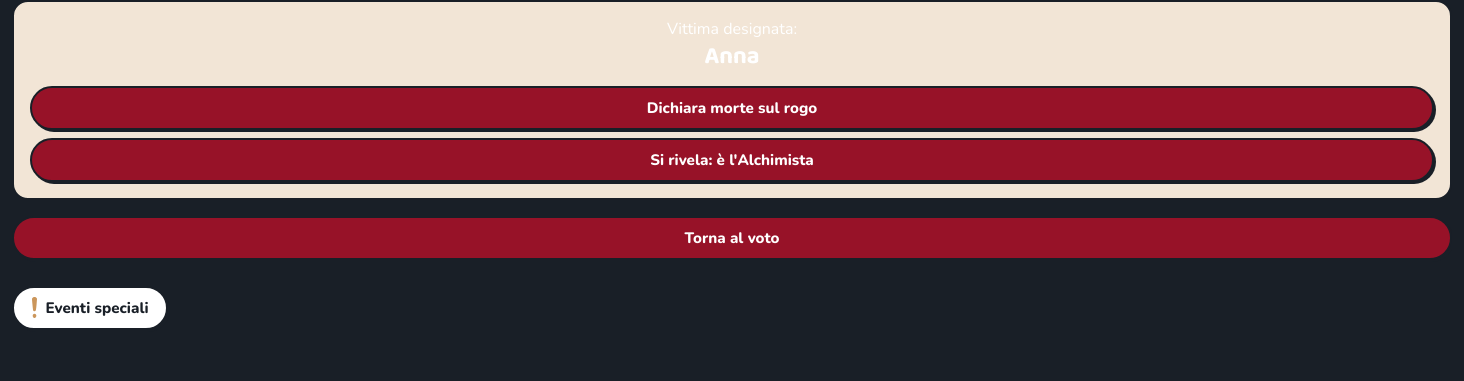
un designato di ruolo ignoto può rivelarsi l'Alchimista al rogo: chiede poi chi trascina con sé nell'esplosione
Step 1. Click the button "Si rivela: è l'Alchimista" → x=732, y=160, box left=30, top=138, right=1434, bottom=182
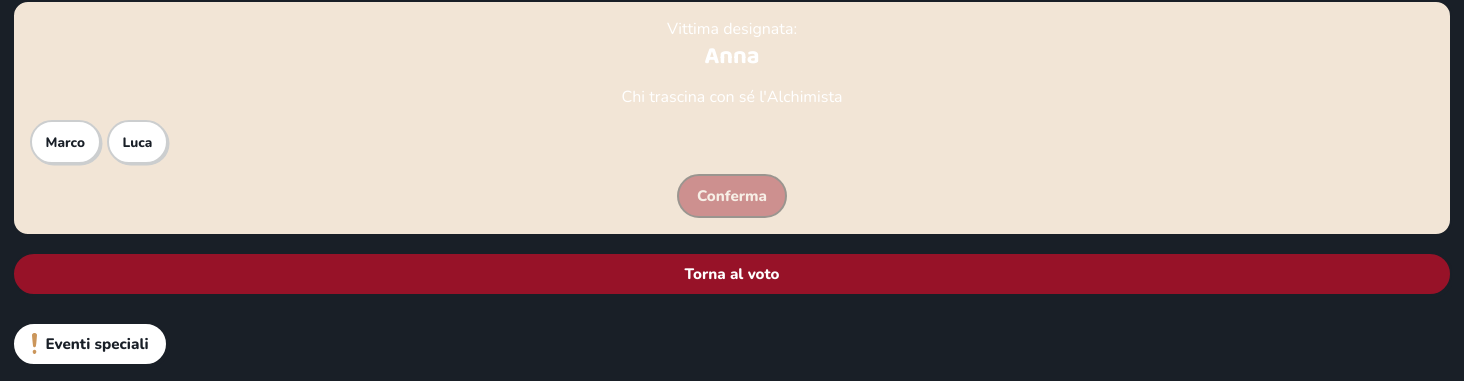
Step 2. Click the button "Marco" → x=65, y=142, box left=30, top=120, right=100, bottom=164
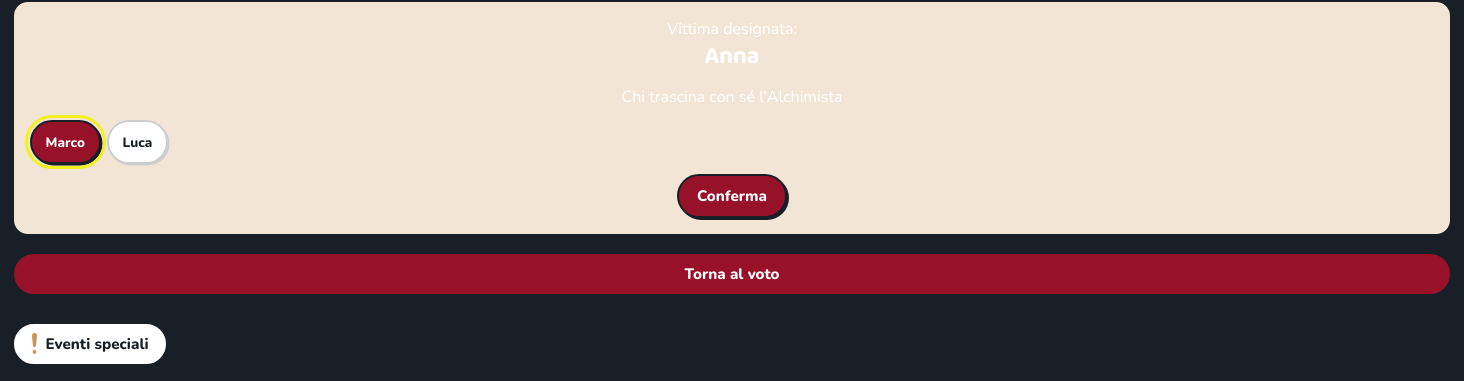
Step 3. Click the button "Conferma" → x=732, y=196, box left=677, top=174, right=787, bottom=218
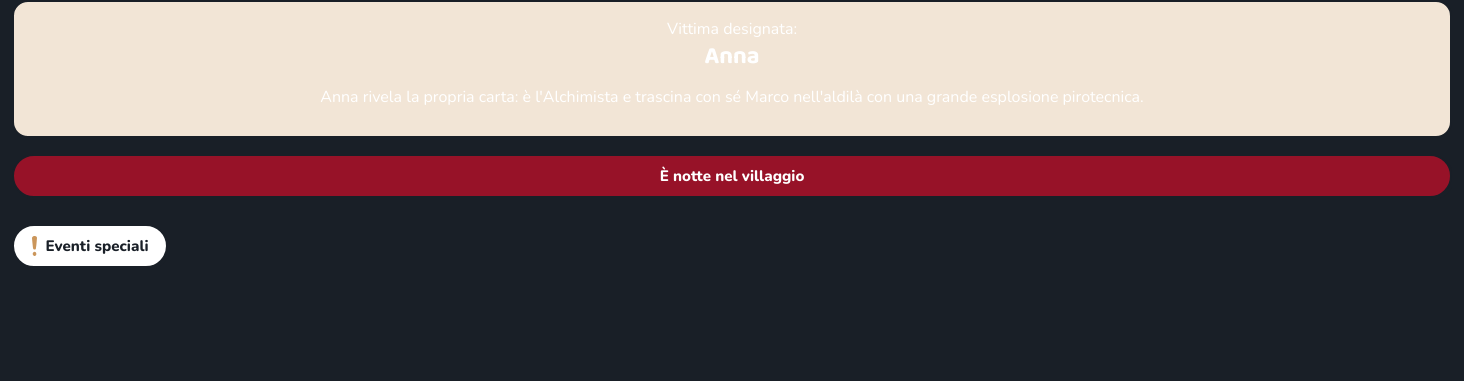
Expected: the text "Anna rivela la propria carta: è l'Alchimista" is shown, left=320, top=86, right=1144, bottom=108
Expected: the text "trascina con sé Marco" is shown, left=623, top=86, right=1144, bottom=108
